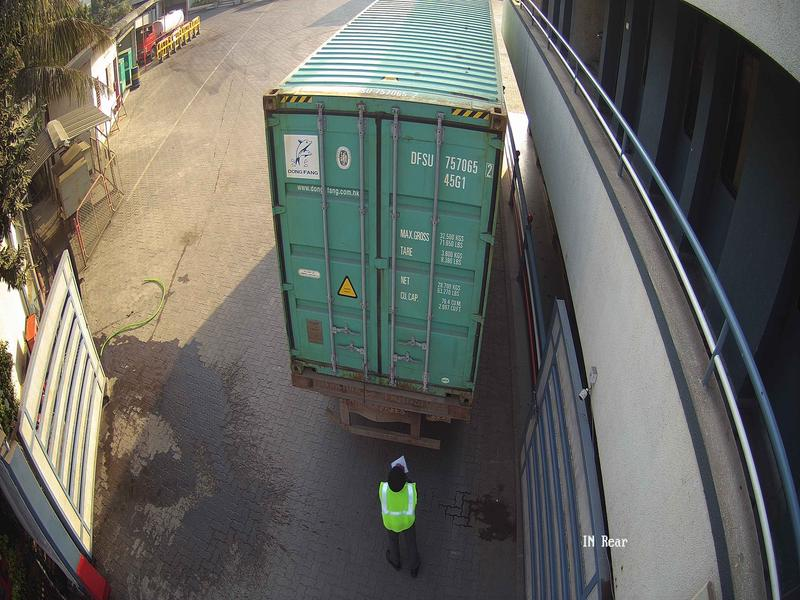container: (255, 87, 519, 403)
